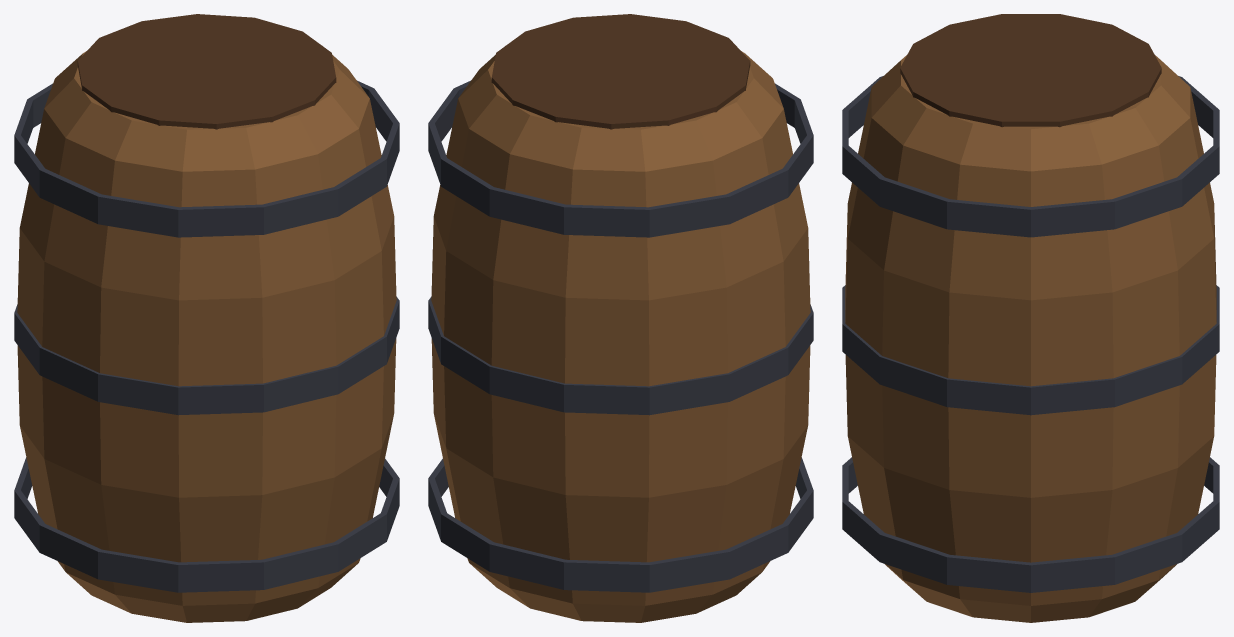
File: barrel.fbx
3 views of the same model, side by side, from view 1: azimuth 30°, elevation 25°; view 2: azimuth 150°, elevation 25°; view 3: azimuth 270°, elevation 25° (orthographic).
Parts seen in each view (by area): view 1: barrel; view 2: barrel; view 3: barrel.
Part boxes in pixels (x1,y1,x2,y2): barrel: (14,14,399,622); barrel: (428,14,813,622); barrel: (842,14,1219,622).
Size of the model in its own units: 71 by 101 by 69.22.
